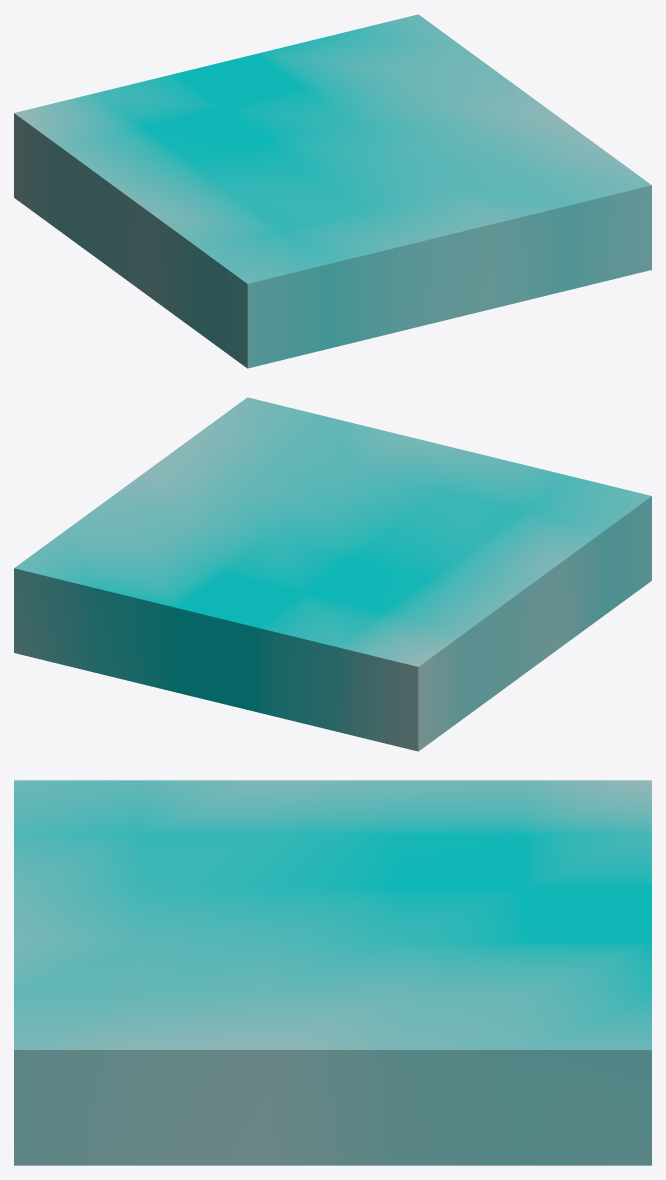
3 renders of one model, top to bottom at view 1: azimuth 30°, elevation 25°; view 2: azimuth 150°, elevation 25°; view 3: azimuth 270°, elevation 25°, orthographic. The views are drawn at different scales.
Parts seen in each view (by area): view 1: SM_SM_Floor5x5-1_LOD0; view 2: SM_SM_Floor5x5-1_LOD0; view 3: SM_SM_Floor5x5-1_LOD0.
Part boxes in pixels (x1=…): SM_SM_Floor5x5-1_LOD0: x1=14, y1=14, x2=651, y2=368; SM_SM_Floor5x5-1_LOD0: x1=14, y1=397, x2=651, y2=751; SM_SM_Floor5x5-1_LOD0: x1=14, y1=780, x2=651, y2=1165.
Bounding box in the file's own units: 500 × 500 × 100.
